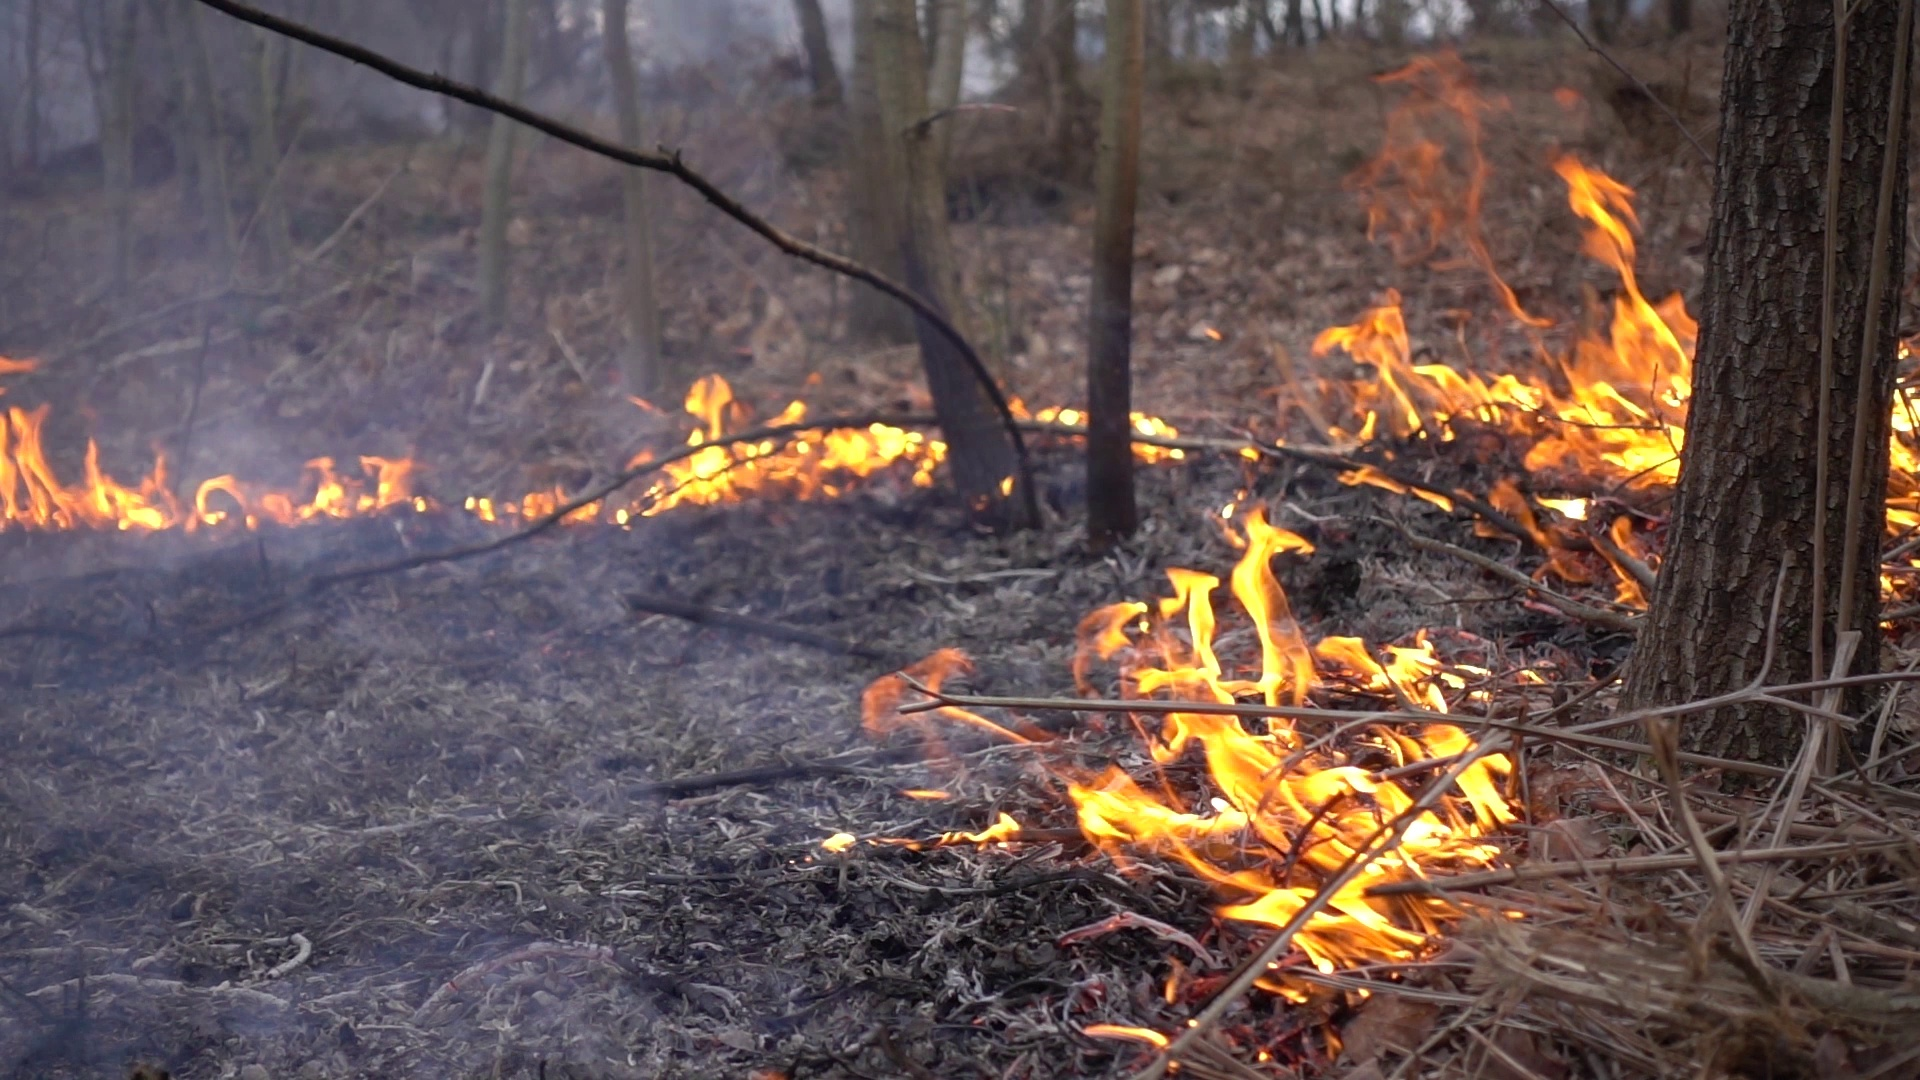fire: (1083, 527, 1510, 955), (1549, 157, 1693, 477), (1328, 303, 1536, 439), (651, 378, 898, 479), (3, 411, 53, 527), (309, 456, 409, 508), (1888, 382, 1920, 535), (78, 485, 162, 524), (527, 495, 553, 521)
